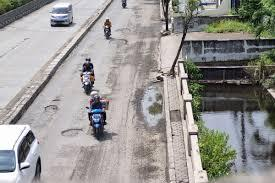Pothole: (135, 79, 166, 130), (40, 96, 70, 116), (58, 123, 83, 145), (166, 104, 184, 130), (110, 22, 138, 34), (106, 36, 130, 48)
